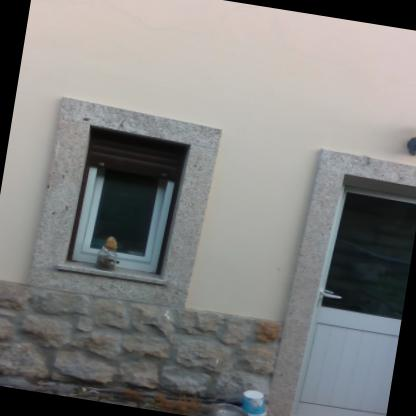closed: (266, 135, 415, 415)
